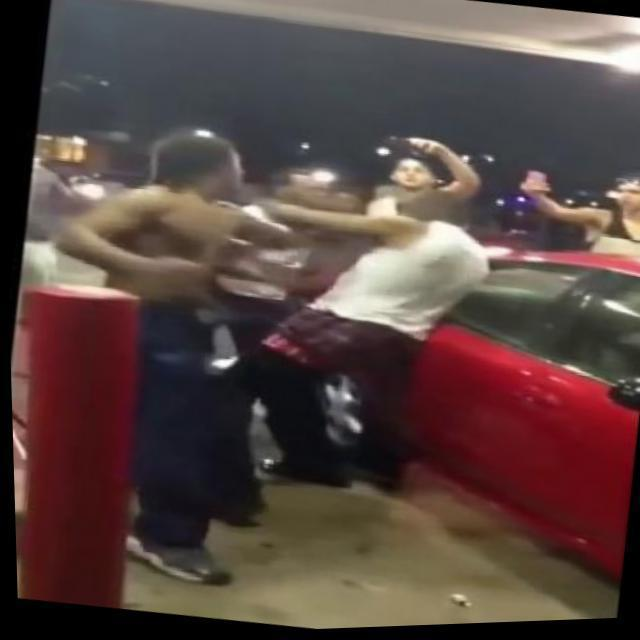fight: (28, 115, 509, 512)
